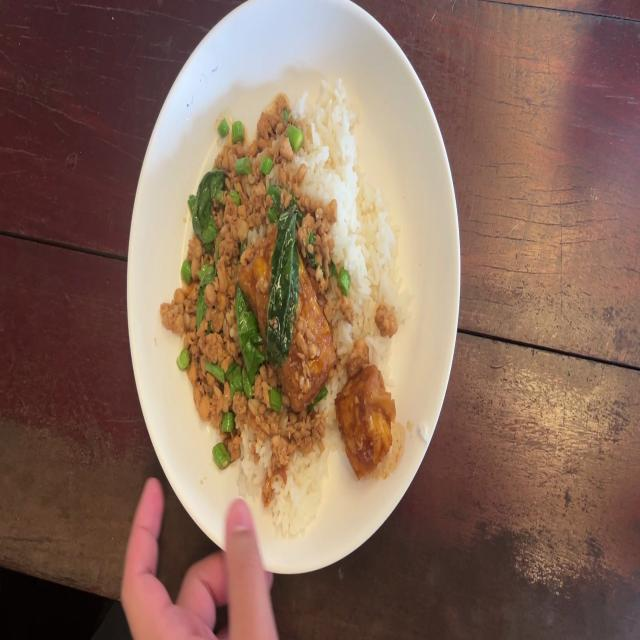01rice: (308, 84, 363, 246), (238, 449, 330, 531), (335, 189, 376, 348), (380, 200, 401, 296)
fried_tofo: (248, 232, 326, 393), (341, 367, 392, 480)
minced_pork: (160, 91, 252, 390), (190, 389, 327, 452), (252, 86, 305, 228), (295, 189, 333, 241), (378, 310, 398, 340)
stir_fried_basil: (162, 80, 413, 538)
